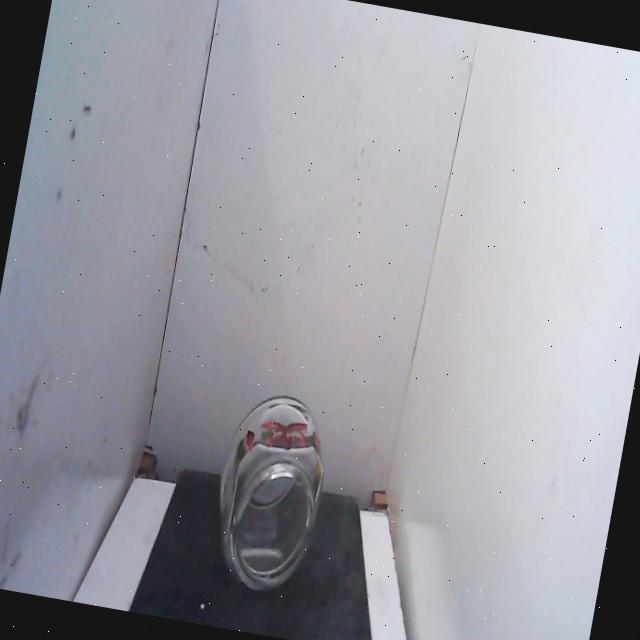glass: (193, 374, 345, 608)
